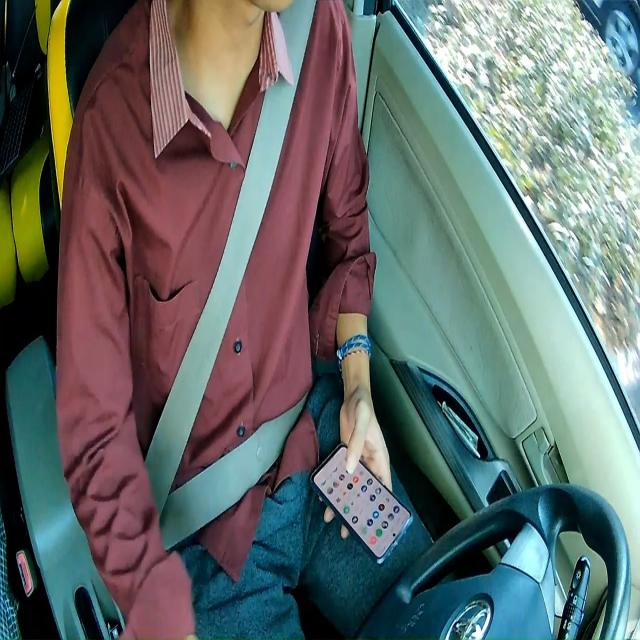phone: (309, 437, 413, 567)
